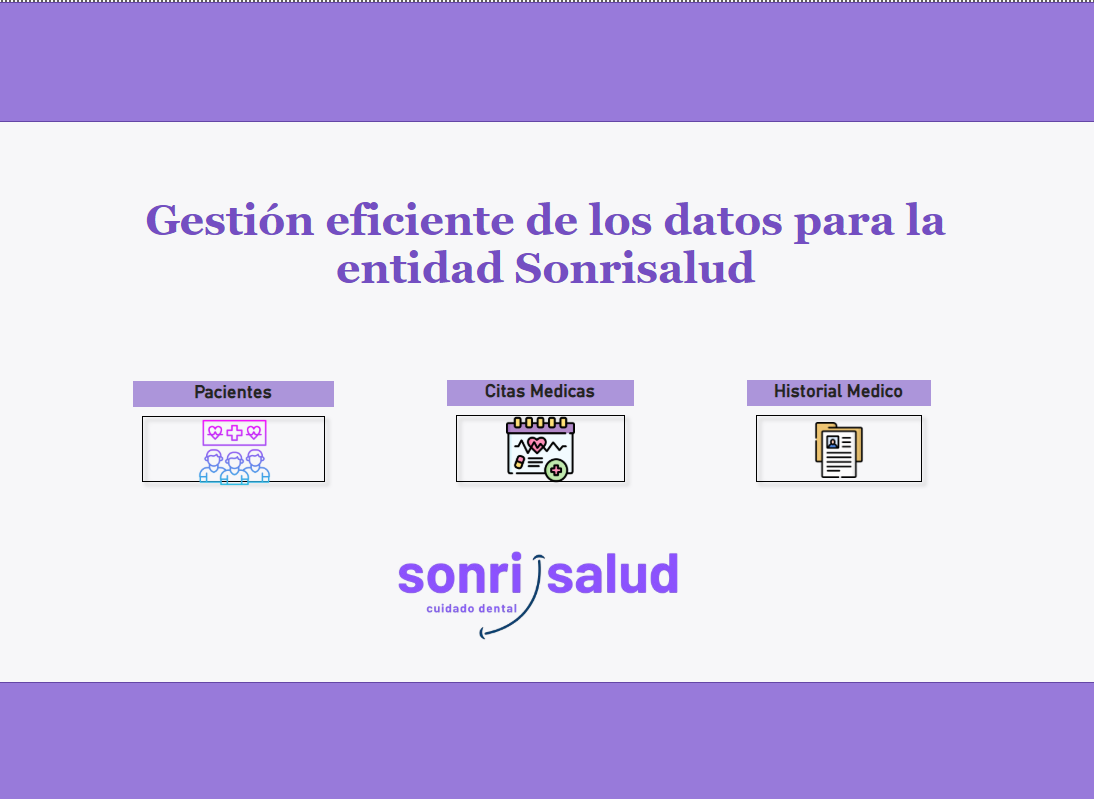

The dashboard page shown, as its layout file describes it:
{"tool":"powerbi","page":{"name":"Menu","canvas":[1100,800],"ordinal":0},"visuals":[{"type":"shape","box":[0,0,1100,120],"z":0},{"type":"textbox","box":[193,27,12,86],"z":1000},{"type":"image","box":[43.3,431.7,998.3,308.3],"z":2000},{"type":"actionButton","title":"Pacientes","box":[136.5,379.4,201.6,109.5],"z":3000},{"type":"actionButton","title":"Citas Medicas","box":[450.8,377.8,187.3,111.1],"z":4000},{"type":"actionButton","title":"Historial Medico","box":[750.8,377.8,184.1,111.1],"z":5000},{"type":"image","box":[504.8,404.8,79.4,85.7],"z":6000},{"type":"image","box":[809.5,406.3,66.7,84.1],"z":7000},{"type":"shape","box":[0,680,1100,120],"z":8000},{"type":"image","box":[194.3,367.1,88.6,165.7],"z":9000},{"type":"textbox","box":[57.4,188.5,985.2,109.8],"z":10000}]}

Visuals, with their boxes in screenshot pixels (x1, y1, x2, y2), scaled from the page's 1100x800 canvas onto the 1094x799 screenshot:
shape: [left=0, top=0, right=1093, bottom=120]
textbox: [left=192, top=27, right=204, bottom=113]
image: [left=43, top=431, right=1036, bottom=739]
"Pacientes" actionButton: [left=136, top=379, right=336, bottom=488]
"Citas Medicas" actionButton: [left=448, top=377, right=635, bottom=488]
"Historial Medico" actionButton: [left=747, top=377, right=930, bottom=488]
image: [left=502, top=404, right=581, bottom=490]
image: [left=805, top=406, right=871, bottom=490]
shape: [left=0, top=679, right=1093, bottom=798]
image: [left=193, top=367, right=281, bottom=532]
textbox: [left=57, top=188, right=1037, bottom=298]
